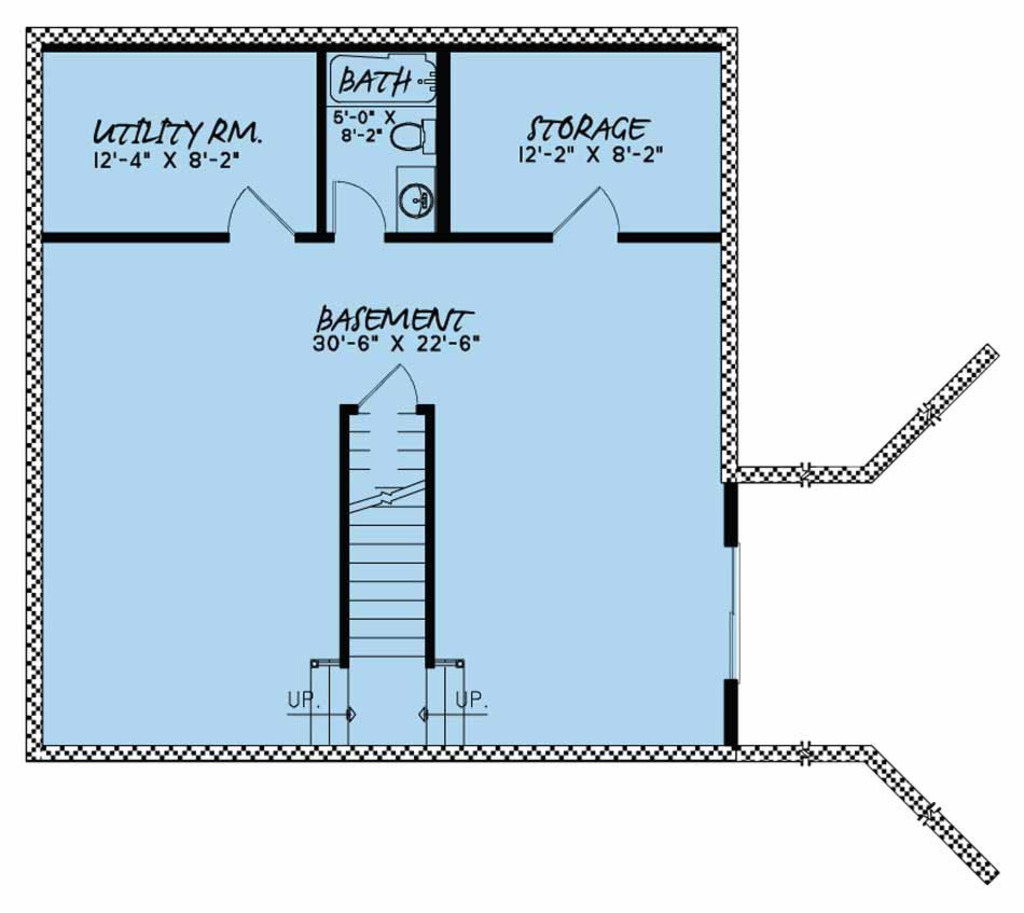door: (206, 167, 301, 239), (550, 178, 633, 249), (350, 358, 428, 411), (323, 181, 390, 239)
large_sink: (386, 111, 438, 159)
small_sink: (388, 163, 438, 235)
stairs: (302, 406, 486, 742)
tub: (331, 50, 440, 109)
window: (726, 540, 740, 677)
